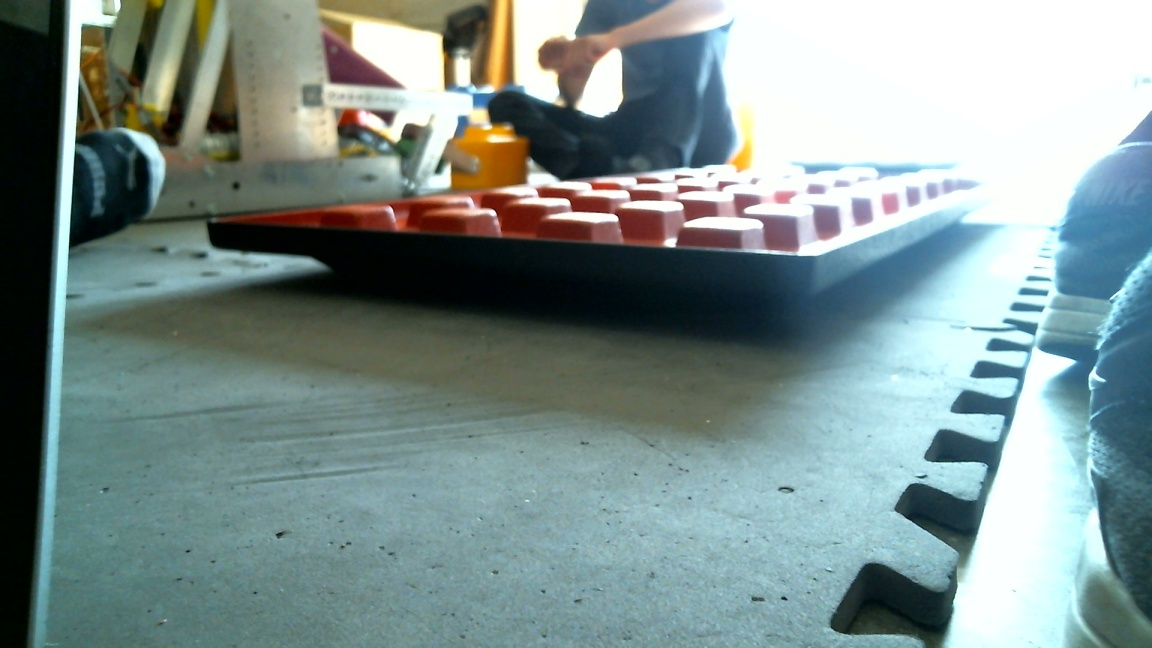red_foundation: (203, 163, 990, 302)
stone: (449, 124, 527, 192)
